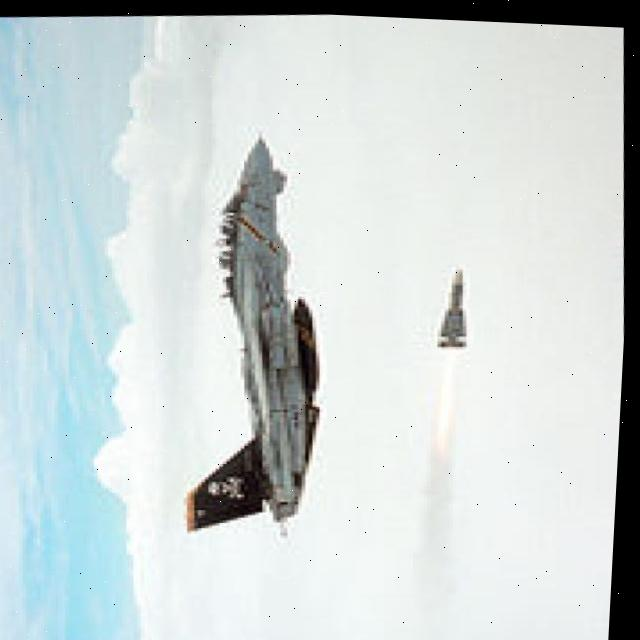missile: (435, 261, 478, 347)
